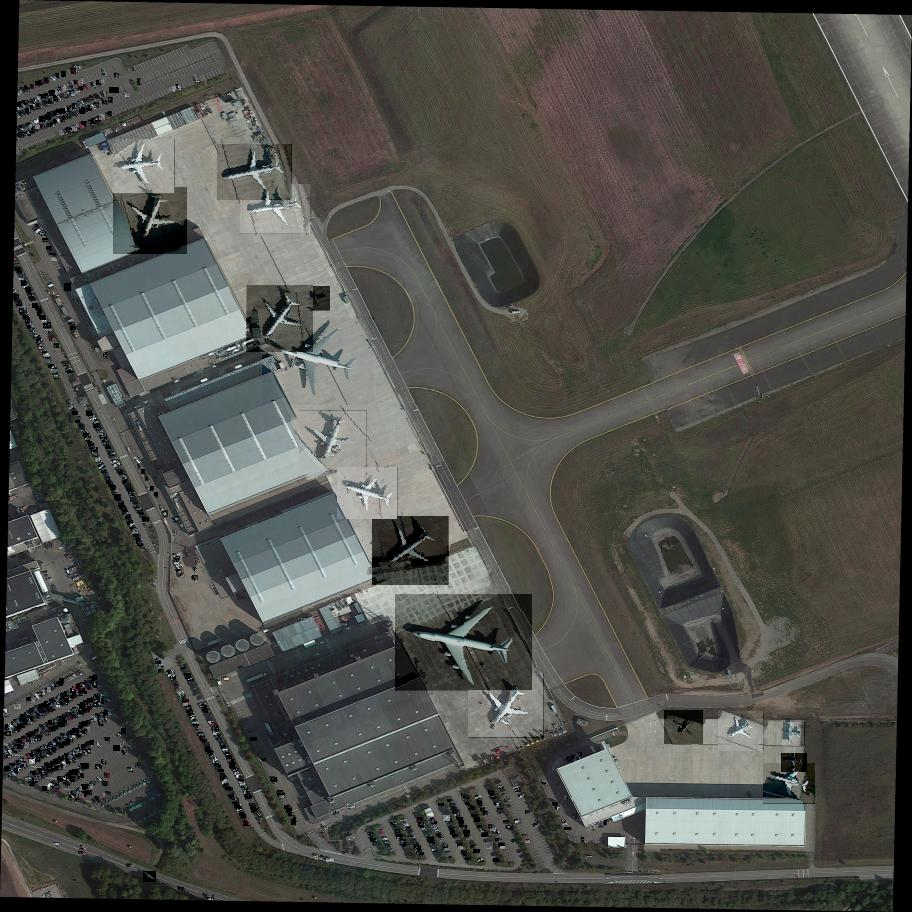plane: (395, 595, 532, 695), (262, 316, 374, 407), (372, 513, 449, 589), (468, 672, 544, 743), (113, 186, 187, 256), (247, 282, 317, 352), (217, 144, 292, 201), (300, 410, 367, 473), (240, 181, 310, 235), (113, 139, 176, 195), (336, 467, 402, 519), (764, 763, 816, 806), (719, 708, 764, 755), (664, 708, 704, 748), (302, 286, 331, 313), (782, 722, 805, 746), (781, 753, 807, 774)
small-vehicle: (143, 871, 157, 883), (64, 282, 72, 292), (35, 227, 43, 235), (241, 815, 249, 823), (486, 842, 494, 850), (36, 339, 44, 346), (94, 93, 102, 100), (443, 815, 451, 822), (192, 575, 199, 582), (91, 447, 98, 454), (114, 494, 121, 501), (62, 699, 69, 706), (21, 714, 28, 721), (99, 114, 106, 121), (66, 81, 73, 88), (50, 76, 57, 83), (169, 86, 176, 93), (15, 299, 22, 306), (100, 91, 107, 98), (251, 808, 258, 815), (247, 798, 254, 805), (124, 483, 131, 490), (91, 716, 98, 723), (70, 757, 77, 764), (66, 772, 73, 779), (178, 574, 186, 580), (17, 305, 25, 311), (43, 322, 51, 328), (80, 98, 86, 106), (414, 846, 422, 852), (205, 895, 214, 900), (101, 469, 108, 475), (101, 467, 108, 473), (3, 710, 9, 717), (29, 698, 36, 704), (151, 578, 157, 585), (111, 460, 118, 466), (138, 464, 144, 471), (8, 723, 15, 729), (14, 746, 21, 752), (24, 741, 30, 748), (38, 704, 44, 711), (47, 707, 54, 713), (87, 412, 94, 418), (87, 105, 93, 112), (65, 91, 71, 98), (114, 87, 120, 94), (26, 100, 32, 107), (49, 336, 56, 342), (39, 116, 45, 123), (47, 112, 53, 119), (50, 110, 56, 117), (53, 110, 59, 117), (60, 108, 66, 115), (17, 273, 24, 279), (396, 834, 403, 840), (232, 799, 239, 805), (228, 790, 235, 796), (470, 844, 476, 851), (473, 849, 480, 855), (102, 781, 109, 787), (452, 809, 459, 815), (507, 825, 514, 831), (515, 819, 522, 825), (519, 793, 525, 800), (72, 728, 79, 734), (114, 746, 121, 752), (7, 764, 13, 771), (17, 758, 24, 764), (68, 716, 74, 723), (60, 721, 66, 728), (11, 770, 17, 777), (104, 773, 111, 779), (168, 672, 175, 678), (178, 691, 185, 697), (216, 736, 223, 742), (210, 722, 217, 728), (190, 716, 197, 722), (85, 790, 92, 796), (53, 780, 60, 786), (88, 783, 94, 790), (55, 758, 62, 764), (348, 805, 356, 810), (160, 504, 165, 512), (19, 308, 27, 313), (326, 858, 334, 863), (118, 501, 124, 507), (32, 695, 38, 701), (15, 704, 21, 710), (152, 584, 158, 590), (96, 426, 102, 432), (94, 421, 100, 427), (134, 456, 140, 462), (143, 517, 149, 523), (42, 724, 48, 730), (12, 747, 18, 753), (12, 741, 18, 747), (8, 743, 14, 749), (81, 702, 87, 708), (67, 690, 73, 696), (72, 686, 78, 692), (89, 676, 95, 682), (86, 678, 92, 684), (81, 682, 87, 688), (24, 712, 30, 718), (36, 713, 42, 719), (50, 699, 56, 705), (76, 110, 82, 116), (30, 121, 36, 127), (62, 106, 68, 112), (22, 100, 28, 106), (44, 78, 50, 84), (59, 130, 65, 136), (32, 303, 38, 309), (38, 343, 44, 349), (29, 327, 35, 333), (75, 103, 81, 109), (73, 111, 79, 117), (32, 126, 38, 132), (56, 109, 62, 115), (395, 829, 401, 835), (286, 808, 292, 814), (433, 826, 439, 832), (428, 837, 434, 843), (199, 734, 205, 740), (466, 836, 472, 842), (483, 811, 489, 817), (567, 756, 573, 762), (458, 842, 464, 848), (447, 818, 453, 824), (515, 788, 521, 794), (490, 794, 496, 800), (60, 733, 66, 739), (51, 741, 57, 747), (84, 727, 90, 733), (122, 750, 128, 756), (62, 741, 68, 747), (35, 756, 41, 762), (96, 764, 102, 770), (4, 767, 10, 773), (95, 694, 101, 700), (35, 750, 41, 756), (31, 750, 37, 756), (29, 760, 35, 766), (32, 778, 38, 784), (34, 770, 40, 776), (25, 754, 31, 760), (18, 765, 24, 771), (82, 752, 88, 758), (62, 761, 68, 767), (57, 765, 63, 771), (222, 747, 228, 753), (180, 694, 186, 700), (97, 778, 103, 784), (75, 796, 81, 802), (47, 763, 53, 769), (70, 751, 76, 757), (68, 752, 74, 758), (84, 763, 90, 769), (88, 443, 95, 448), (94, 424, 101, 429), (163, 511, 168, 518), (130, 527, 137, 532), (5, 752, 10, 759), (62, 713, 67, 720), (60, 715, 65, 722), (47, 729, 52, 736), (36, 735, 41, 742), (64, 698, 71, 703), (82, 688, 87, 695), (32, 707, 37, 714), (58, 702, 63, 709), (52, 704, 59, 709), (73, 103, 78, 110), (96, 80, 101, 87), (50, 90, 55, 97), (69, 112, 74, 119), (45, 115, 52, 120), (18, 276, 25, 281), (131, 66, 136, 73), (60, 93, 65, 100), (110, 87, 115, 94), (278, 792, 285, 797), (416, 849, 423, 854), (222, 781, 229, 786), (270, 777, 277, 782), (206, 747, 213, 752), (481, 833, 488, 838), (468, 806, 475, 811), (99, 720, 104, 727), (97, 694, 104, 699), (175, 686, 182, 691), (44, 764, 49, 771), (229, 765, 237, 769), (193, 75, 197, 83), (122, 511, 128, 516), (127, 487, 133, 492), (130, 498, 136, 503), (117, 499, 123, 504), (132, 531, 138, 536), (136, 537, 142, 542), (58, 682, 64, 687), (95, 457, 101, 462), (98, 430, 104, 435), (79, 424, 85, 429), (66, 400, 72, 405), (173, 554, 179, 559), (40, 724, 45, 730), (37, 727, 42, 733), (31, 731, 36, 737), (26, 733, 31, 739), (24, 735, 29, 741), (6, 731, 11, 737), (6, 724, 11, 730), (15, 726, 20, 732), (54, 725, 59, 731), (78, 704, 83, 710), (51, 726, 56, 732), (17, 745, 23, 750), (43, 731, 49, 736), (41, 731, 46, 737), (32, 738, 38, 743), (58, 694, 63, 700), (61, 693, 66, 699), (64, 691, 69, 697), (90, 684, 95, 690), (93, 682, 98, 688), (25, 720, 31, 725), (29, 718, 34, 724), (30, 708, 35, 714), (33, 715, 38, 721), (39, 711, 44, 717), (35, 705, 40, 711), (45, 708, 50, 714), (44, 701, 49, 707), (87, 698, 92, 704), (25, 131, 30, 137), (91, 119, 96, 125), (69, 105, 74, 111), (94, 102, 99, 108), (35, 81, 40, 87), (27, 107, 32, 113), (71, 127, 76, 133), (73, 126, 78, 132), (62, 71, 67, 77), (18, 89, 23, 95), (102, 69, 107, 75), (51, 99, 56, 105), (124, 92, 129, 98), (62, 85, 67, 91), (72, 89, 77, 95), (74, 89, 79, 95), (99, 79, 104, 85), (72, 411, 78, 416), (70, 327, 76, 332), (48, 364, 54, 369), (45, 359, 51, 364), (36, 306, 41, 312), (26, 287, 32, 292), (27, 321, 32, 327), (83, 98, 88, 104), (14, 294, 19, 300), (72, 69, 77, 75), (19, 132, 24, 138), (84, 700, 89, 706), (382, 837, 388, 842), (291, 821, 297, 826), (442, 845, 448, 850), (429, 819, 435, 824), (425, 833, 431, 838), (403, 823, 409, 828), (288, 812, 294, 817), (240, 782, 246, 787), (203, 709, 209, 714), (241, 814, 247, 819), (223, 783, 229, 788), (244, 793, 250, 798), (499, 843, 505, 848), (474, 817, 480, 822), (505, 798, 511, 803), (469, 841, 475, 846), (92, 799, 98, 804), (95, 796, 100, 802), (478, 858, 484, 863), (462, 850, 467, 856), (573, 814, 578, 820), (512, 839, 518, 844), (534, 824, 540, 829), (226, 755, 232, 760), (99, 714, 104, 720), (83, 721, 88, 727), (56, 737, 61, 743), (104, 718, 110, 723), (36, 748, 41, 754), (81, 729, 87, 734), (41, 753, 46, 759), (46, 751, 52, 756), (44, 752, 49, 758), (76, 712, 81, 718), (74, 713, 79, 719), (71, 714, 76, 720), (28, 753, 34, 758), (32, 758, 37, 764), (30, 780, 35, 786), (27, 777, 33, 782), (101, 760, 106, 766), (224, 750, 230, 755), (171, 675, 177, 680), (158, 669, 164, 674), (156, 660, 162, 665), (86, 749, 91, 755), (74, 755, 79, 761), (220, 741, 226, 746), (187, 707, 193, 712), (183, 702, 189, 707), (58, 776, 63, 782), (84, 785, 90, 790), (62, 776, 68, 781), (42, 767, 47, 773), (100, 793, 105, 799), (81, 763, 86, 769), (70, 777, 75, 783), (73, 769, 78, 775), (177, 570, 184, 574), (89, 446, 96, 450), (39, 94, 43, 101), (54, 74, 58, 81), (229, 795, 236, 799), (456, 840, 463, 844), (107, 709, 111, 716), (101, 712, 105, 719), (96, 714, 100, 721), (59, 735, 63, 742), (38, 768, 42, 775), (129, 521, 134, 526), (26, 698, 31, 703), (129, 490, 134, 495), (111, 489, 116, 494), (173, 517, 178, 522), (90, 414, 95, 419), (28, 732, 33, 737), (14, 740, 19, 745), (11, 722, 16, 727), (73, 707, 78, 712), (57, 717, 62, 722), (54, 719, 59, 724), (38, 734, 43, 739), (13, 720, 18, 725), (20, 723, 25, 728), (70, 694, 75, 699), (84, 681, 89, 686), (52, 697, 57, 702), (16, 719, 21, 724), (42, 710, 47, 715), (48, 701, 53, 706), (51, 706, 56, 711), (22, 132, 27, 137), (18, 125, 23, 130), (34, 120, 39, 125), (67, 107, 72, 112), (94, 117, 99, 122), (62, 93, 67, 98), (42, 94, 47, 99), (38, 80, 43, 85), (41, 80, 46, 85), (74, 66, 79, 71), (29, 84, 34, 89), (115, 73, 120, 78), (15, 112, 20, 117), (177, 85, 182, 90), (40, 315, 45, 320), (55, 344, 60, 349), (21, 311, 26, 316), (43, 116, 48, 121), (22, 282, 27, 287), (290, 815, 295, 820), (427, 835, 432, 840), (431, 825, 436, 830), (432, 821, 437, 826), (234, 768, 239, 773), (228, 788, 233, 793), (575, 754, 580, 759), (449, 823, 454, 828), (590, 826, 595, 831), (75, 726, 80, 731), (78, 725, 83, 730), (65, 734, 70, 739), (128, 768, 133, 773), (68, 738, 73, 743), (66, 740, 71, 745), (60, 743, 65, 748), (54, 745, 59, 750), (40, 747, 45, 752), (57, 723, 62, 728), (105, 697, 110, 702), (21, 757, 26, 762), (41, 774, 46, 779), (21, 764, 26, 769), (76, 753, 81, 758), (60, 764, 65, 769), (82, 745, 87, 750), (65, 781, 70, 786), (63, 783, 68, 788), (49, 784, 54, 789), (46, 785, 51, 790), (82, 792, 87, 797), (65, 775, 70, 780), (80, 794, 85, 799), (71, 791, 76, 796), (62, 756, 67, 761), (53, 759, 58, 764), (80, 774, 85, 779), (73, 776, 78, 781), (41, 690, 45, 696), (194, 567, 198, 573), (134, 508, 140, 512), (55, 682, 59, 688), (51, 719, 55, 725), (66, 712, 70, 718), (30, 738, 34, 744), (68, 696, 72, 702), (71, 688, 75, 694), (56, 696, 60, 702), (20, 716, 24, 722), (31, 716, 35, 722), (98, 116, 102, 122), (67, 114, 71, 120), (56, 73, 60, 79), (54, 89, 58, 95), (79, 123, 83, 129), (109, 97, 113, 103), (32, 99, 36, 105), (80, 78, 84, 84), (92, 83, 96, 89), (37, 103, 41, 109), (65, 369, 71, 373), (104, 352, 108, 358), (51, 366, 57, 370), (43, 353, 49, 357), (25, 109, 29, 115), (42, 238, 48, 242), (14, 298, 20, 302), (15, 268, 21, 272), (127, 863, 133, 867), (418, 823, 424, 827), (220, 773, 226, 777), (225, 787, 231, 791), (210, 754, 216, 758), (142, 469, 146, 475), (465, 857, 471, 861), (497, 808, 503, 812), (493, 859, 499, 863), (449, 828, 455, 832), (488, 790, 494, 794), (212, 759, 218, 763), (54, 739, 58, 745), (44, 745, 48, 751), (136, 762, 140, 768), (122, 728, 126, 734), (57, 743, 61, 749), (52, 747, 56, 753), (86, 708, 90, 714), (82, 708, 86, 714), (66, 718, 70, 724), (97, 701, 101, 707), (98, 700, 104, 704), (25, 762, 29, 768), (14, 769, 18, 775), (9, 771, 13, 777), (198, 732, 204, 736), (79, 786, 83, 792), (59, 756, 63, 762), (51, 761, 55, 767), (136, 509, 143, 512), (173, 562, 180, 565), (117, 470, 124, 473), (47, 285, 54, 288), (449, 803, 456, 806), (564, 827, 571, 830), (122, 480, 127, 484), (43, 688, 47, 693), (38, 692, 42, 697), (68, 403, 73, 407), (127, 519, 132, 523), (60, 679, 64, 684), (45, 722, 49, 727), (8, 750, 12, 755), (9, 729, 13, 734), (17, 725, 21, 730), (75, 706, 80, 710), (27, 740, 31, 745), (93, 675, 97, 680), (75, 692, 80, 696), (77, 685, 81, 690), (42, 703, 46, 708), (106, 112, 110, 117), (89, 120, 93, 125), (19, 102, 24, 106), (91, 104, 95, 109), (103, 100, 107, 105), (27, 87, 31, 92), (21, 87, 25, 92), (36, 96, 40, 101), (79, 87, 83, 92), (42, 100, 46, 105), (39, 125, 44, 129), (58, 116, 62, 121), (31, 129, 35, 134), (17, 103, 21, 108), (82, 122, 87, 126), (79, 109, 83, 114), (391, 822, 396, 826), (371, 839, 376, 843), (251, 806, 256, 810), (488, 824, 493, 828), (423, 830, 428, 834), (423, 828, 428, 832), (525, 811, 530, 815), (451, 832, 456, 836), (452, 806, 457, 810), (455, 813, 460, 817), (478, 802, 483, 806), (93, 696, 97, 701), (105, 711, 109, 716), (86, 721, 91, 725), (80, 722, 84, 727), (71, 730, 75, 735), (77, 733, 81, 738), (105, 738, 109, 743), (121, 743, 125, 748), (117, 732, 121, 737), (74, 734, 78, 739), (72, 735, 76, 740), (49, 749, 53, 754), (12, 763, 16, 768), (79, 710, 83, 715), (35, 777, 39, 782), (39, 775, 43, 780), (17, 766, 21, 771), (29, 773, 33, 778), (91, 740, 95, 745), (88, 741, 92, 746), (79, 745, 83, 750), (76, 748, 80, 753), (67, 780, 72, 784), (55, 788, 60, 792), (51, 781, 55, 786), (43, 787, 48, 791), (77, 788, 81, 793), (74, 750, 78, 755), (64, 754, 69, 758), (45, 772, 49, 777), (69, 771, 74, 775), (78, 768, 82, 773), (48, 687, 51, 693), (137, 544, 143, 547), (103, 440, 109, 443), (20, 110, 23, 116), (75, 80, 78, 86), (24, 284, 30, 287), (28, 293, 34, 296), (39, 346, 45, 349), (23, 313, 29, 316), (178, 887, 184, 890), (234, 803, 240, 806), (215, 764, 221, 767), (463, 830, 469, 833), (154, 493, 158, 497), (49, 687, 53, 691), (35, 695, 39, 699), (97, 460, 101, 464), (76, 420, 80, 424), (151, 487, 155, 491), (35, 729, 39, 733), (21, 737, 25, 741), (71, 709, 75, 713), (73, 693, 77, 697), (27, 711, 31, 715), (50, 122, 54, 126), (48, 92, 52, 96), (59, 87, 63, 91), (84, 85, 88, 89), (26, 319, 30, 323), (33, 105, 37, 109), (36, 126, 40, 130), (46, 123, 50, 127), (37, 119, 41, 123), (54, 96, 58, 100), (421, 826, 425, 830), (250, 802, 254, 806), (201, 738, 205, 742), (228, 763, 236, 765), (460, 824, 464, 828), (481, 807, 485, 811), (597, 823, 601, 827), (48, 742, 52, 746), (46, 745, 50, 749), (79, 732, 83, 736), (10, 764, 14, 768), (27, 782, 31, 786), (31, 772, 35, 776), (58, 786, 62, 790), (69, 793, 73, 797), (106, 792, 110, 796), (91, 781, 95, 785), (78, 766, 82, 770), (119, 505, 124, 508), (139, 514, 144, 517), (110, 485, 115, 488), (83, 433, 88, 436), (123, 477, 128, 480), (86, 435, 91, 438), (173, 530, 176, 535), (122, 507, 127, 510), (124, 513, 129, 516), (13, 728, 16, 733), (80, 691, 83, 696), (78, 683, 83, 686), (85, 686, 88, 691), (29, 130, 32, 135), (53, 119, 56, 124), (48, 99, 51, 104), (38, 230, 43, 233), (63, 363, 68, 366), (52, 370, 57, 373), (37, 309, 42, 312), (30, 298, 35, 301), (62, 116, 65, 121), (21, 278, 26, 281), (86, 122, 89, 127), (85, 106, 88, 111), (90, 698, 93, 703), (401, 842, 406, 845), (436, 832, 441, 835), (418, 818, 423, 821), (260, 758, 265, 761), (239, 813, 244, 816), (228, 794, 233, 797), (246, 795, 251, 798), (221, 777, 226, 780), (205, 746, 210, 749), (444, 849, 449, 852), (503, 793, 508, 796), (227, 759, 232, 762), (579, 752, 582, 757), (493, 831, 498, 834), (464, 796, 469, 799), (496, 835, 501, 838), (439, 803, 444, 806), (17, 760, 20, 765), (66, 760, 69, 765), (196, 726, 201, 729), (189, 678, 194, 681), (78, 775, 81, 780), (100, 436, 107, 438), (49, 253, 56, 255), (234, 807, 241, 809), (471, 815, 478, 817), (116, 497, 120, 500), (109, 484, 113, 487), (51, 685, 55, 688), (136, 540, 140, 543), (134, 535, 140, 537), (93, 451, 97, 454), (113, 463, 119, 465), (109, 453, 113, 456), (82, 429, 86, 432), (19, 738, 22, 742), (49, 721, 52, 725), (68, 710, 71, 714), (49, 727, 52, 731), (60, 701, 63, 705), (23, 722, 26, 726), (91, 417, 94, 421), (78, 102, 81, 106), (67, 128, 70, 132), (138, 79, 140, 85), (57, 88, 60, 92), (37, 313, 41, 316), (28, 296, 34, 298), (35, 335, 41, 337), (70, 406, 73, 410), (45, 356, 51, 358), (41, 321, 47, 323), (87, 97, 90, 101), (30, 105, 33, 109), (82, 108, 84, 114), (315, 856, 321, 858), (79, 852, 85, 854), (433, 850, 437, 853), (418, 852, 424, 854), (409, 837, 415, 839), (277, 790, 283, 792), (271, 780, 277, 782), (218, 770, 224, 772), (186, 711, 192, 713), (204, 743, 210, 745), (490, 829, 496, 831), (407, 834, 413, 836), (572, 755, 575, 759), (564, 758, 568, 761), (453, 834, 457, 837), (459, 821, 463, 824), (476, 796, 480, 799), (468, 804, 472, 807), (479, 805, 483, 808), (600, 822, 603, 826), (68, 732, 72, 735), (94, 703, 97, 707), (90, 705, 94, 708), (176, 690, 182, 692), (68, 759, 72, 762), (55, 767, 58, 771), (184, 673, 190, 675), (183, 700, 189, 702), (83, 785, 86, 789), (52, 769, 55, 773), (99, 466, 104, 468), (175, 558, 180, 560), (77, 123, 79, 128), (46, 93, 48, 98), (69, 323, 74, 325), (24, 317, 29, 319), (41, 318, 46, 320), (46, 247, 51, 249), (54, 843, 59, 845), (400, 820, 405, 822), (252, 738, 257, 740), (238, 810, 243, 812), (201, 706, 206, 708), (211, 756, 216, 758), (408, 831, 413, 833), (228, 760, 233, 762), (447, 800, 452, 802), (496, 803, 501, 805), (458, 847, 463, 849), (562, 823, 567, 825), (180, 666, 185, 668), (156, 659, 161, 661), (221, 746, 226, 748), (216, 734, 221, 736), (193, 722, 198, 724), (186, 676, 191, 678), (127, 515, 130, 518), (133, 505, 136, 508), (22, 743, 25, 746), (28, 123, 31, 126), (24, 86, 27, 89), (64, 129, 67, 132), (42, 232, 45, 235), (43, 124, 46, 127), (582, 838, 585, 841), (97, 743, 100, 746), (64, 720, 67, 723), (25, 778, 28, 781), (175, 684, 178, 687), (119, 472, 123, 474), (105, 479, 109, 481), (97, 463, 101, 465), (177, 565, 181, 567), (140, 547, 144, 549), (133, 530, 137, 532), (131, 524, 135, 526), (87, 686, 91, 688), (59, 95, 61, 99), (69, 91, 71, 95), (43, 352, 47, 354), (54, 376, 58, 378), (17, 303, 21, 305), (27, 290, 31, 292), (392, 825, 396, 827), (80, 846, 84, 848), (285, 806, 289, 808), (440, 838, 444, 840), (280, 796, 284, 798), (335, 812, 339, 814), (244, 823, 248, 825), (246, 790, 250, 792), (241, 785, 245, 787), (214, 762, 218, 764), (437, 835, 441, 837), (465, 834, 469, 836), (495, 839, 499, 841), (504, 822, 508, 824), (501, 847, 505, 849), (463, 826, 467, 828), (562, 820, 566, 822), (604, 821, 606, 825), (553, 803, 557, 805), (542, 782, 546, 784), (526, 841, 530, 843), (4, 732, 6, 736), (89, 748, 91, 752), (213, 733, 217, 735), (189, 714, 193, 716), (187, 705, 191, 707), (107, 481, 110, 483), (94, 455, 97, 457), (86, 439, 89, 441), (140, 516, 146, 517), (109, 112, 111, 115), (17, 134, 19, 137), (28, 326, 31, 328), (46, 329, 49, 331), (90, 96, 92, 99), (16, 272, 22, 273), (379, 831, 385, 832), (370, 836, 373, 838), (292, 818, 295, 820), (435, 831, 438, 833), (428, 817, 434, 818), (431, 841, 434, 843), (407, 828, 410, 830), (244, 788, 247, 790), (236, 772, 239, 774), (251, 804, 254, 806), (207, 752, 213, 753), (146, 475, 147, 481), (462, 794, 465, 796), (457, 816, 460, 818), (550, 799, 553, 801), (565, 795, 567, 798), (91, 720, 94, 722), (88, 707, 90, 710), (86, 743, 88, 746), (193, 725, 199, 726), (201, 704, 204, 706), (48, 770, 51, 772), (105, 477, 110, 478), (46, 101, 47, 106), (68, 372, 73, 373), (405, 826, 410, 827), (457, 818, 462, 819), (463, 829, 468, 830), (476, 800, 481, 801), (555, 808, 560, 809), (498, 787, 503, 788), (166, 671, 171, 672), (213, 729, 218, 730), (209, 722, 214, 723), (88, 441, 92, 442), (108, 446, 110, 448), (112, 493, 116, 494), (99, 434, 103, 435), (26, 124, 28, 126), (36, 338, 40, 339), (40, 349, 44, 350), (370, 833, 372, 835), (415, 844, 419, 845), (253, 813, 257, 814), (204, 740, 206, 742), (442, 844, 446, 845), (522, 835, 526, 836), (464, 853, 466, 855), (38, 755, 40, 757), (160, 665, 164, 666), (213, 726, 217, 727), (134, 502, 137, 503), (94, 420, 97, 421), (56, 119, 57, 122), (37, 225, 40, 226), (32, 334, 35, 335), (386, 843, 389, 844), (445, 851, 448, 852), (238, 775, 241, 776), (466, 803, 469, 804), (481, 829, 484, 830), (107, 443, 109, 444), (83, 427, 85, 428), (241, 780, 243, 781), (450, 857, 452, 858), (480, 826, 482, 827), (108, 450, 111, 450), (124, 475, 125, 475), (129, 495, 134, 495), (32, 331, 35, 331), (403, 840, 405, 840), (510, 805, 512, 805)
